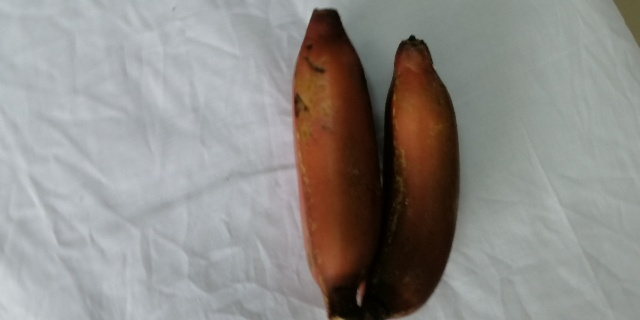banana_red: (291, 5, 377, 318), (367, 34, 460, 320)
